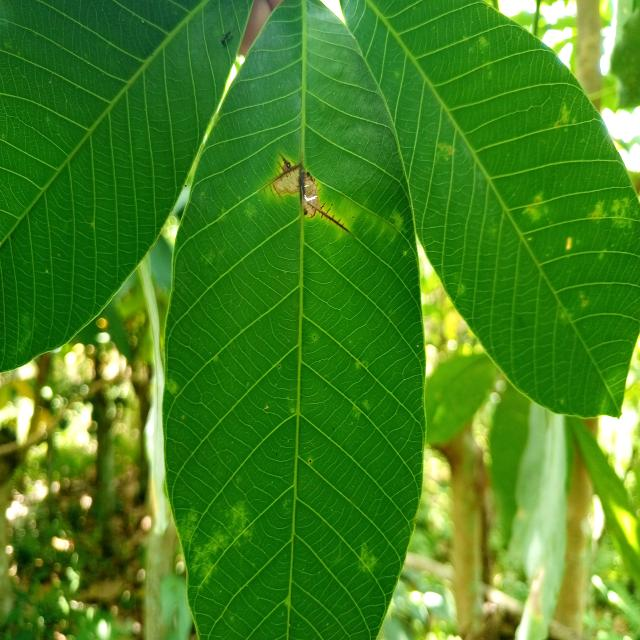Corynespora: (257, 152, 301, 200), (308, 202, 355, 237)
Leaf-Blight: (304, 174, 321, 216), (274, 170, 301, 196)
